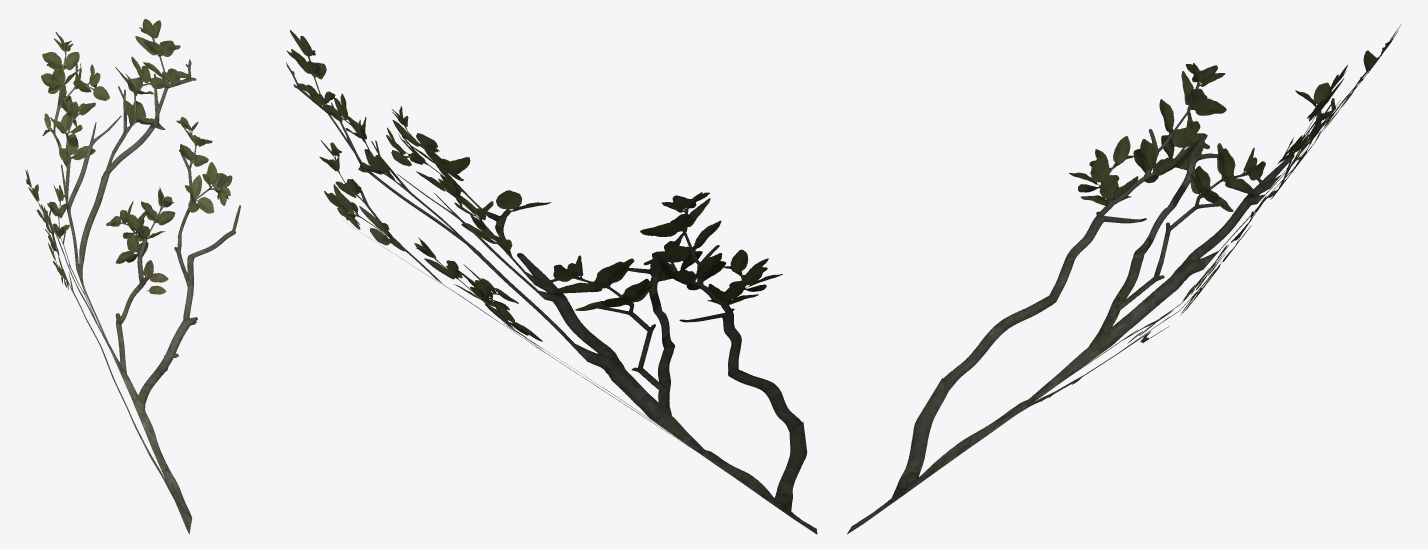
The model's file is TI_Tree_Branch_Part_05.fbx.
3 renders of one model, left to right at view 1: azimuth 30°, elevation 25°; view 2: azimuth 150°, elevation 25°; view 3: azimuth 270°, elevation 25°, orthographic. The views are drawn at different scales.
Visible parts, largest first — view 1: TI_Tree_Branch_Part_05; view 2: TI_Tree_Branch_Part_05; view 3: TI_Tree_Branch_Part_05.
Boxes of the visible parts, x1,y1,x2,y2 form: TI_Tree_Branch_Part_05: (25, 19, 240, 534); TI_Tree_Branch_Part_05: (286, 30, 817, 534); TI_Tree_Branch_Part_05: (847, 25, 1400, 534).
Size of the model in its own units: 0.9261 by 1.46 by 1.33.
